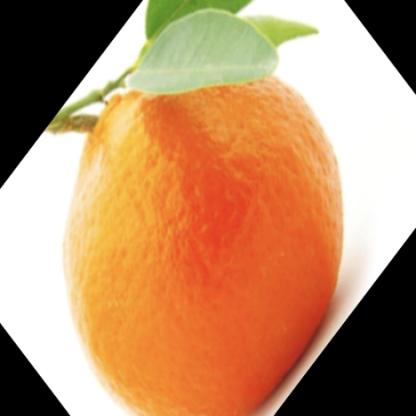fresh: (65, 47, 343, 416)
